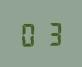three: (41, 19, 62, 46)
zero: (19, 20, 40, 47)
